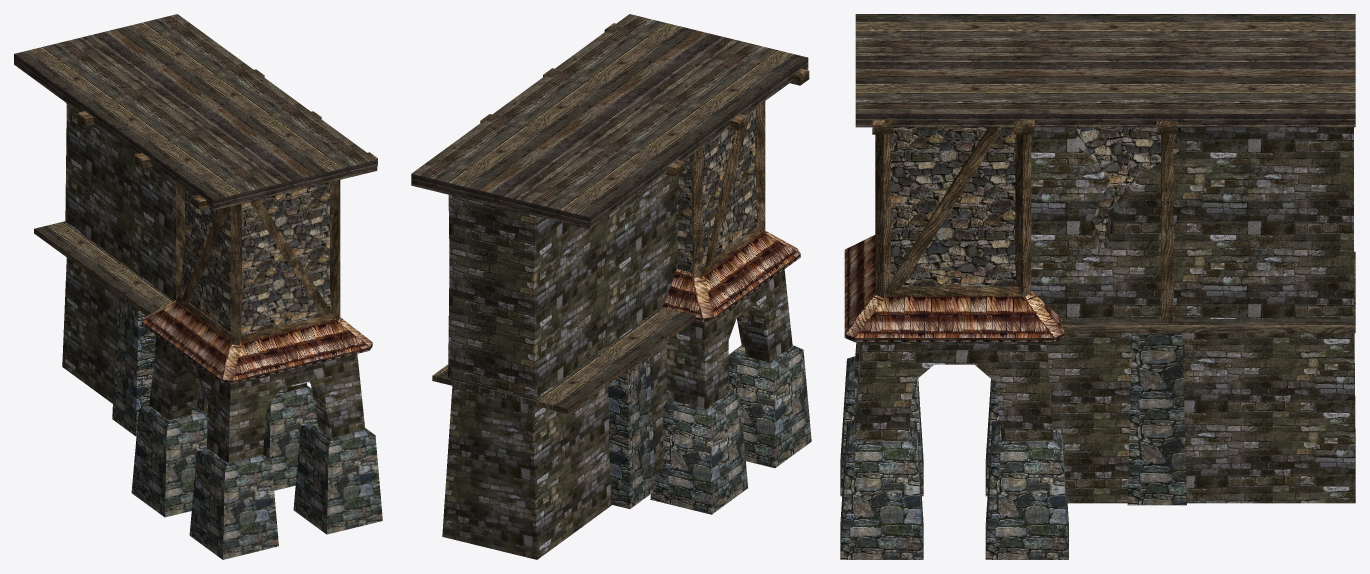
File: loc2_10.glb
3 views of the same model, side by side, from view 1: azimuth 30°, elevation 25°; view 2: azimuth 150°, elevation 25°; view 3: azimuth 270°, elevation 25° (orthographic). The views are drawn at different scales.
Parts seen in each view (by area): view 1: loc2_10-col; view 2: loc2_10-col; view 3: loc2_10-col.
Boxes of the visible parts, x1,y1,x2,y2 form: loc2_10-col: (14, 14, 382, 559); loc2_10-col: (411, 14, 811, 559); loc2_10-col: (840, 14, 1355, 559).
Bounding box in the file's own units: 9.48 × 18.04 × 18.89.
9 materials, 9 textured.
